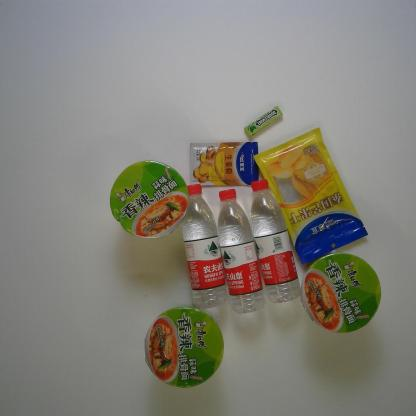Dried Fruit: (253, 127, 369, 266)
Drink: (250, 178, 302, 304), (216, 188, 266, 314), (182, 183, 227, 310)
Gum: (244, 106, 283, 136)
Instant Noodles: (301, 251, 382, 334), (144, 306, 224, 388), (109, 160, 189, 239)
Seasoner: (189, 141, 259, 186)
